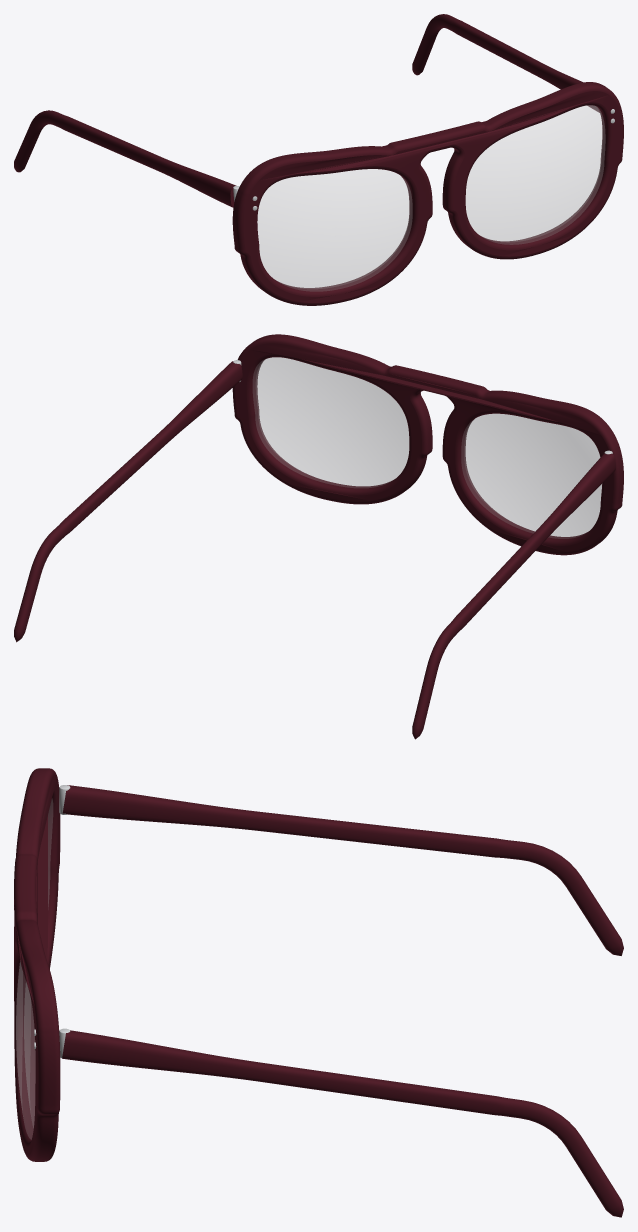
File: iris-m.glb
3 views of the same model, one above another, from view 1: azimuth 30°, elevation 25°; view 2: azimuth 150°, elevation 25°; view 3: azimuth 270°, elevation 25° (orthographic). The views are drawn at different scales.
Visible parts, largest first — view 1: Front, Lens_R, Lens_L, Temple_R, Temple_L; view 2: Front, Lens_L, Lens_R, Temple_L, Temple_R; view 3: Front, Temple_L, Temple_R, Lens_L.
Part boxes in pixels (<box>): Front: <box>232,82,623,305</box>; Lens_R: <box>257,169,412,291</box>; Lens_L: <box>466,105,605,244</box>; Temple_R: <box>14,110,236,207</box>; Temple_L: <box>412,14,599,112</box>; Front: <box>232,334,623,555</box>; Lens_L: <box>253,357,408,487</box>; Lens_R: <box>461,414,601,538</box>; Temple_L: <box>14,361,242,642</box>; Temple_R: <box>412,453,615,739</box>; Front: <box>14,768,70,1161</box>; Temple_L: <box>62,1030,623,1217</box>; Temple_R: <box>62,785,623,955</box>; Lens_L: <box>16,962,35,1139</box>.
Size of the model in its own units: 0.1419 by 0.0533 by 0.1371.
